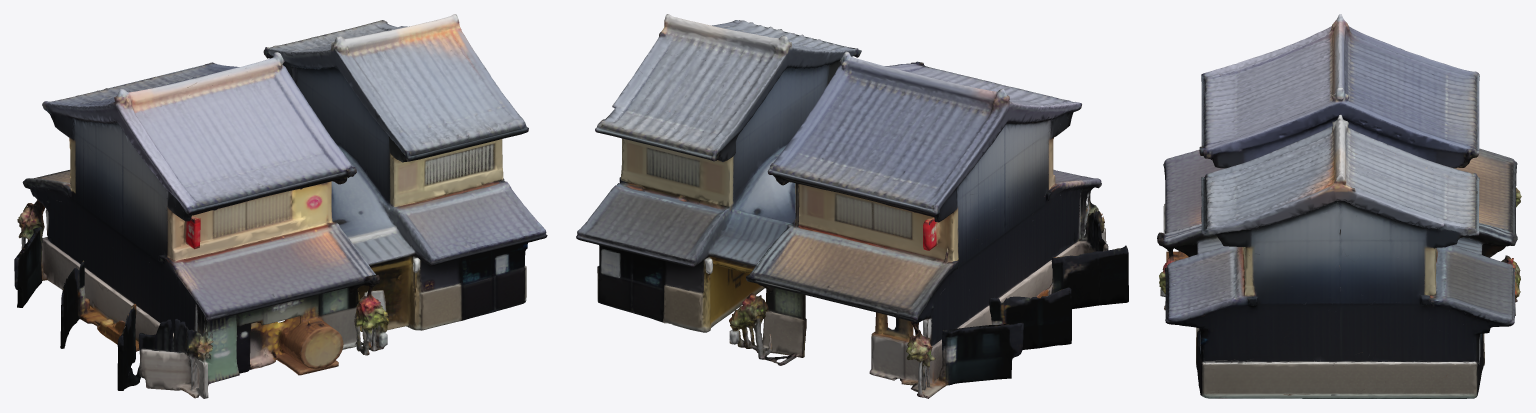
The model's file is GiS4AAyaUAEEkfr4.glb.
The picture shows the model from 3 angles, left to right: view 1: azimuth 30°, elevation 25°; view 2: azimuth 150°, elevation 25°; view 3: azimuth 270°, elevation 25°; orthographic projection. The views are drawn at different scales.
Parts seen in each view (by area): view 1: mesh; view 2: mesh; view 3: mesh.
Part boxes in pixels (bbox=[...]): mesh: bbox=[14, 14, 547, 398]; mesh: bbox=[576, 14, 1128, 398]; mesh: bbox=[1157, 14, 1521, 398].
Bounding box in the file's own units: 1 × 0.5839 × 0.8316.
Materials: 1 (1 with a texture image).
